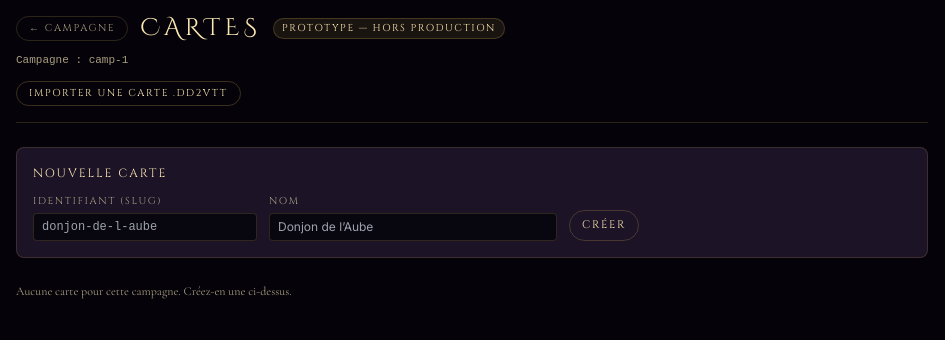
Test: MapsCloudScreen › rejects empty name
This screenshot has width=945, height=340.
Type "ok-slug" into the field with test id "maps-cloud-create-id" at (145, 226), box [33, 212, 257, 240]
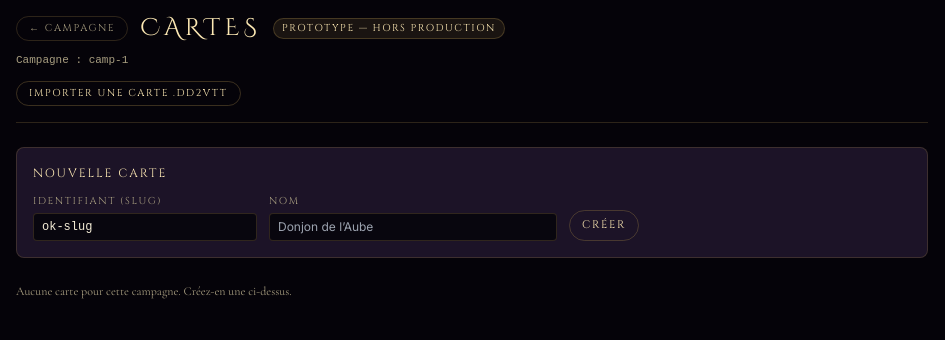
Submit the form with test id "maps-cloud-create-form", box [33, 194, 639, 240]
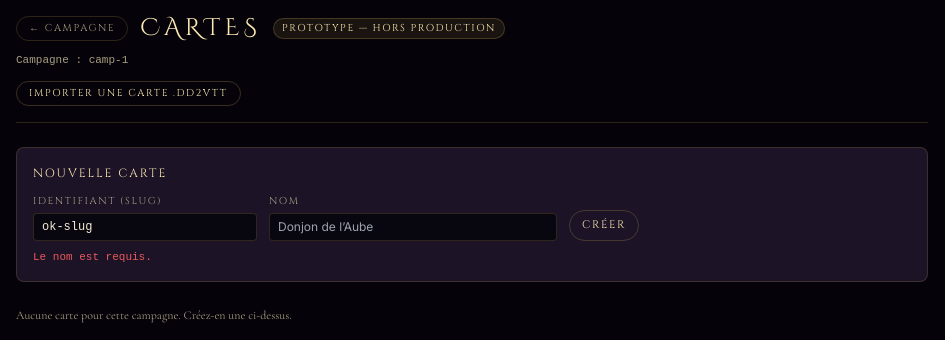
Expected: the text "Le nom est requis." is shown, [33, 250, 152, 262]
